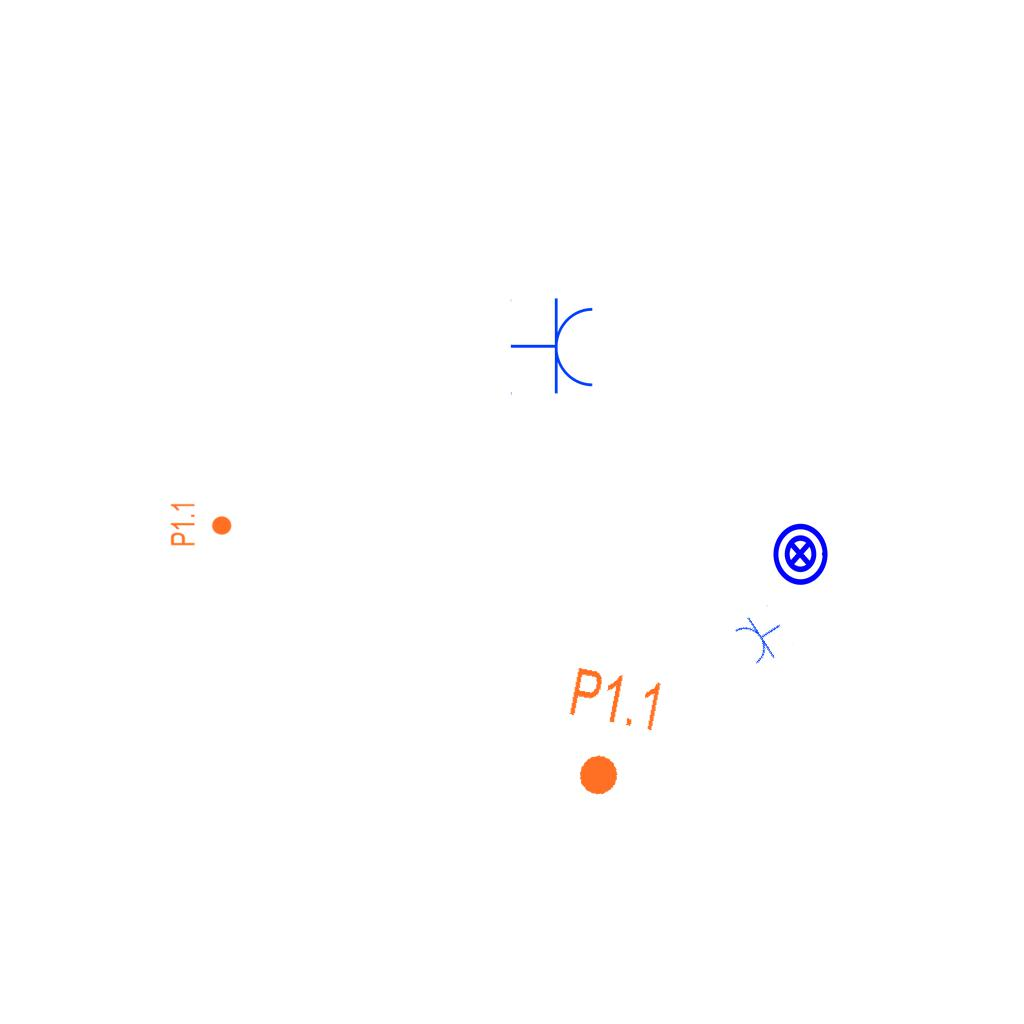Downlight_LED_Einbauleuchten_Flur: (551, 663, 668, 807), (169, 501, 233, 547)
Schukosteckdose_einfach: (510, 297, 597, 397), (730, 603, 794, 670)
Taster_beleuchtet: (767, 521, 833, 587)
